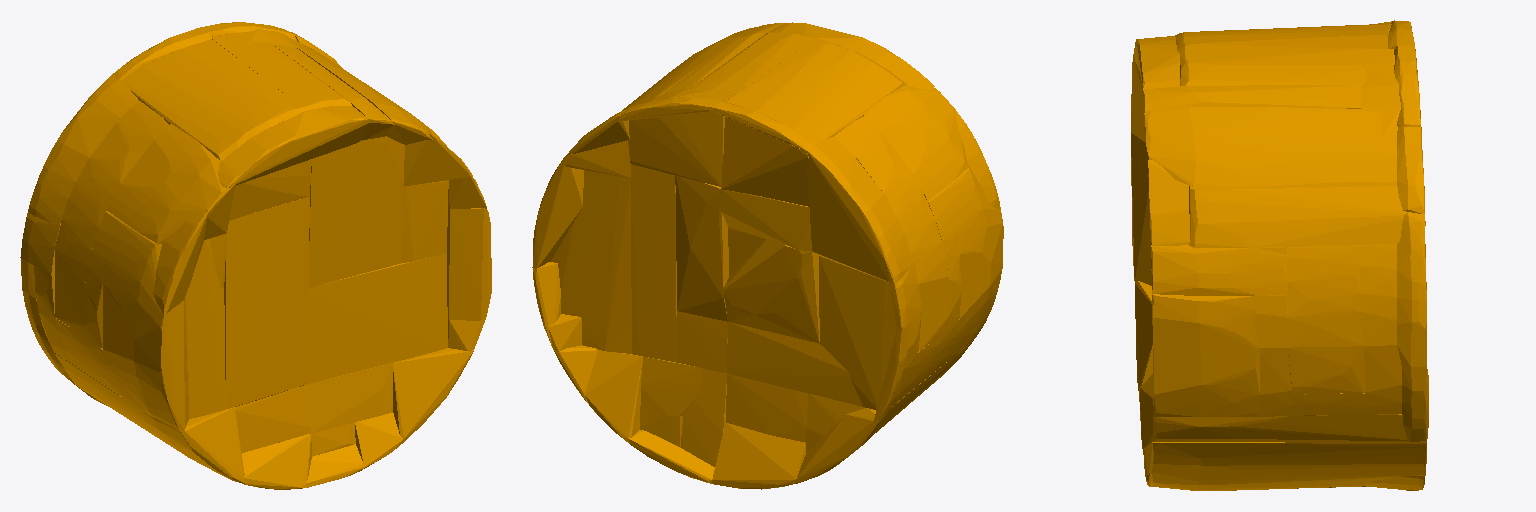
robot.urdf — can-corn:
<?xml version="1.0" ?>
<robot name="can-corn">
  <link name="baseLink">
    <contact>
      <lateral_friction value="1.0"/>
      <inertia_scaling value="3.0"/>
    </contact>
    <inertial>
      <origin rpy="0 0 0" xyz="0.000 0.000 0.000"/>
       <mass value=".1"/>
       <inertia ixx="1" ixy="0.0" ixz="0.0" iyy="1" iyz="0.0" izz="1"/>
    </inertial>
    <visual>
      <origin rpy="0 0 0" xyz="0 0 0"/>
      <geometry>
        <mesh filename="can/can-corn_small.obj" scale="1.0 1.0 1.0"/>
      </geometry>
    </visual>
    <collision>
      <origin rpy="0 0 0" xyz="0 0 0"/>
      <geometry>
        <mesh filename="../collision/can/can-corn_small.obj" scale="1.0 1.0 1.0"/>
      </geometry>
    </collision>
  </link>
</robot>
        

--- What the picture shows (computed from the rendered views, not written in the file) ---
The picture shows the robot from 3 angles, left to right: view 1: azimuth 30°, elevation 25°; view 2: azimuth 150°, elevation 25°; view 3: azimuth 270°, elevation 25°; orthographic projection.
Model can-corn with 1 links and 0 joints (none), rooted at baseLink, posed every joint at zero.
Visible links, largest first — view 1: baseLink; view 2: baseLink; view 3: baseLink.
Link boxes in pixels (left/top/right/bottom): baseLink: left=20, top=22, right=491, bottom=489; baseLink: left=532, top=22, right=1003, bottom=489; baseLink: left=1131, top=20, right=1428, bottom=490.
Size in the robot's own frame: 0.0675 by 0.0426 by 0.0671 metres.
Meshes: 1 distinct files referenced, 1 mesh visuals loaded (1 OBJ).